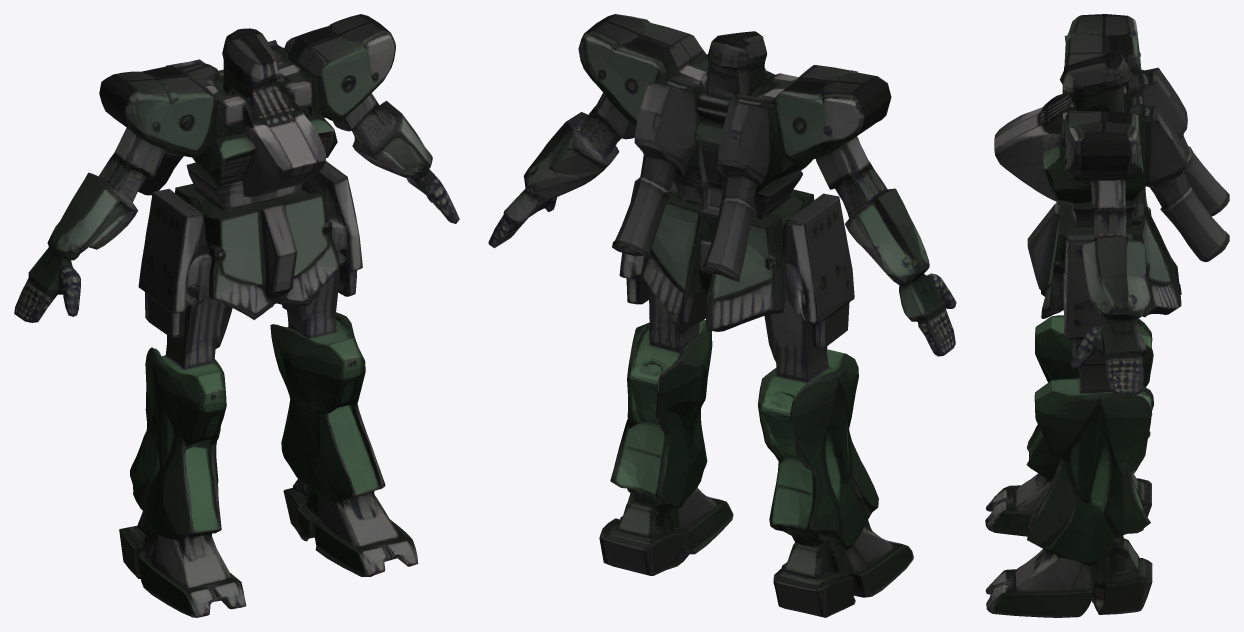
The model's file is gemini-mech.fbx.
3 renders of one model, left to right at view 1: azimuth 30°, elevation 25°; view 2: azimuth 150°, elevation 25°; view 3: azimuth 270°, elevation 25°, orthographic. The views are drawn at different scales.
Visible parts, largest first — view 1: geometry_0; view 2: geometry_0; view 3: geometry_0.
Boxes of the visible parts, x1,y1,x2,y2 form: geometry_0: (14,14,459,617); geometry_0: (488,14,956,617); geometry_0: (985,14,1229,617).
Size of the model in its own units: 0.8641 by 0.9916 by 0.4317.
1 material, 1 textured.
